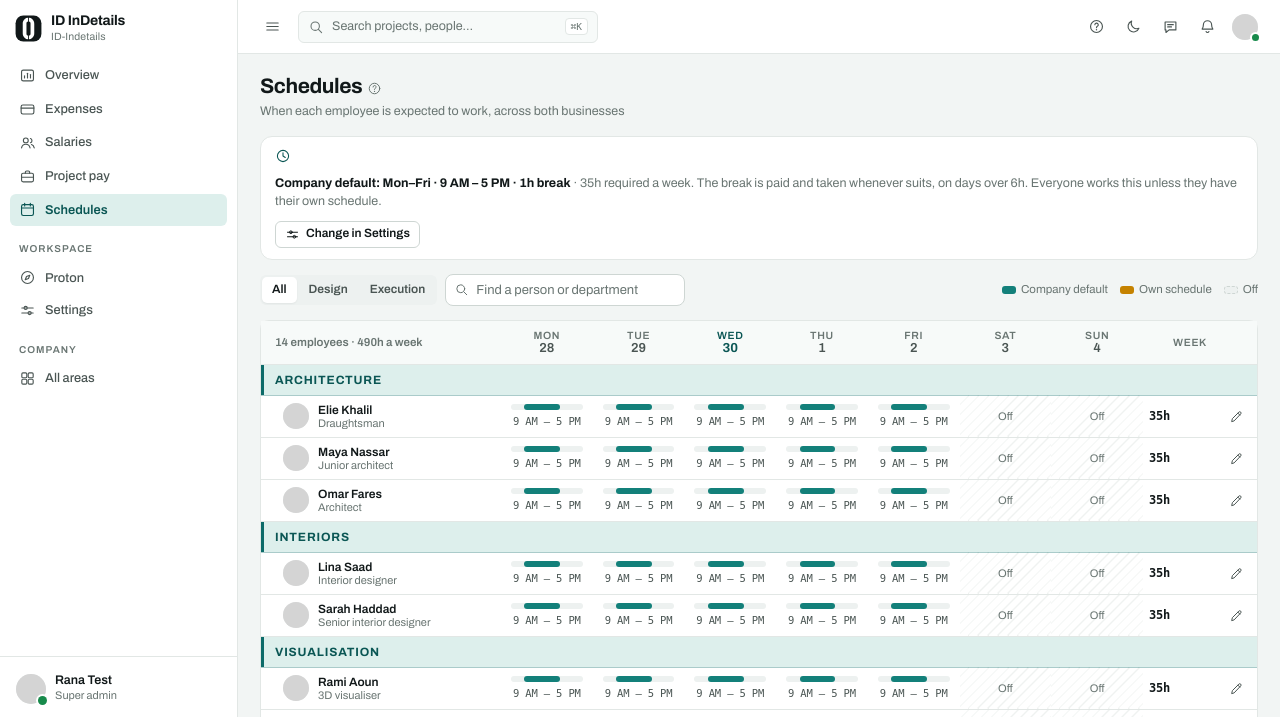
Test: Schedules › give someone their own week, from today
The image size is (1280, 717).
Click the button named "Edit Elie Khalil's schedule". click: (1236,416)
box: [1219, 403, 1254, 430]
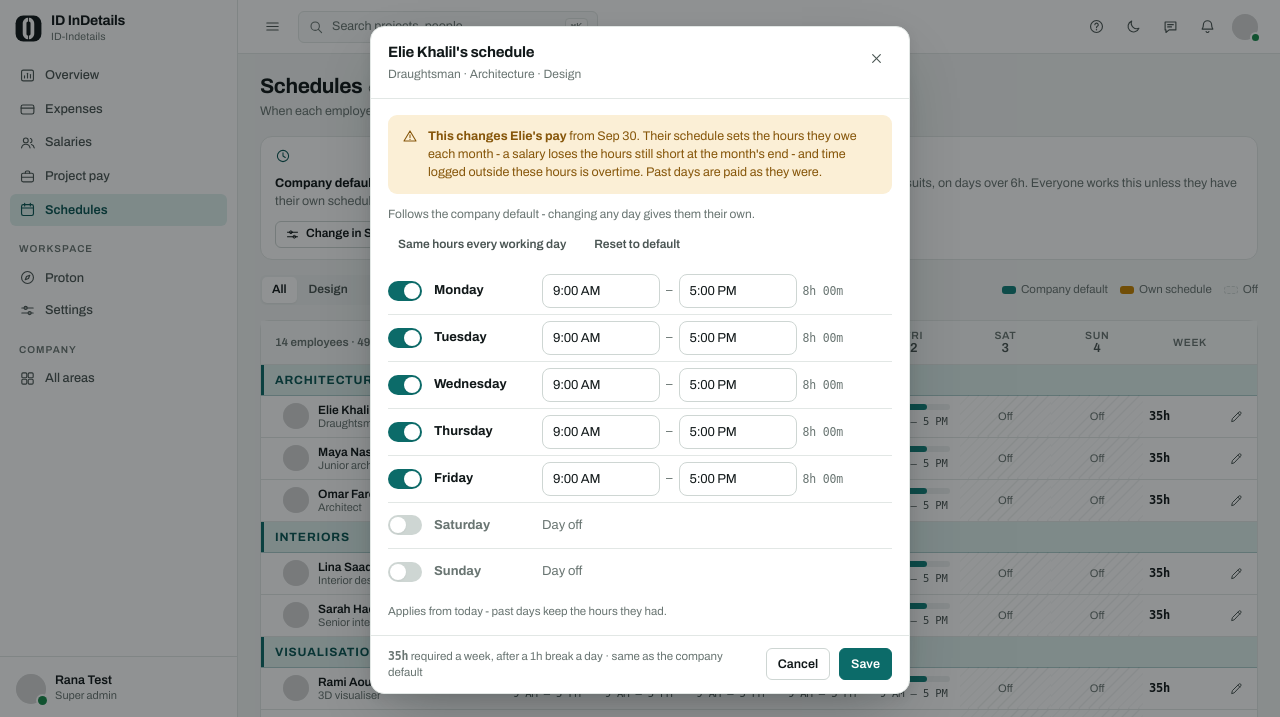
Now the text "same as the company default" is shown, box [388, 650, 723, 678]
Click the switch named "Works on Friday". click: (405,479)
box: [388, 469, 422, 489]
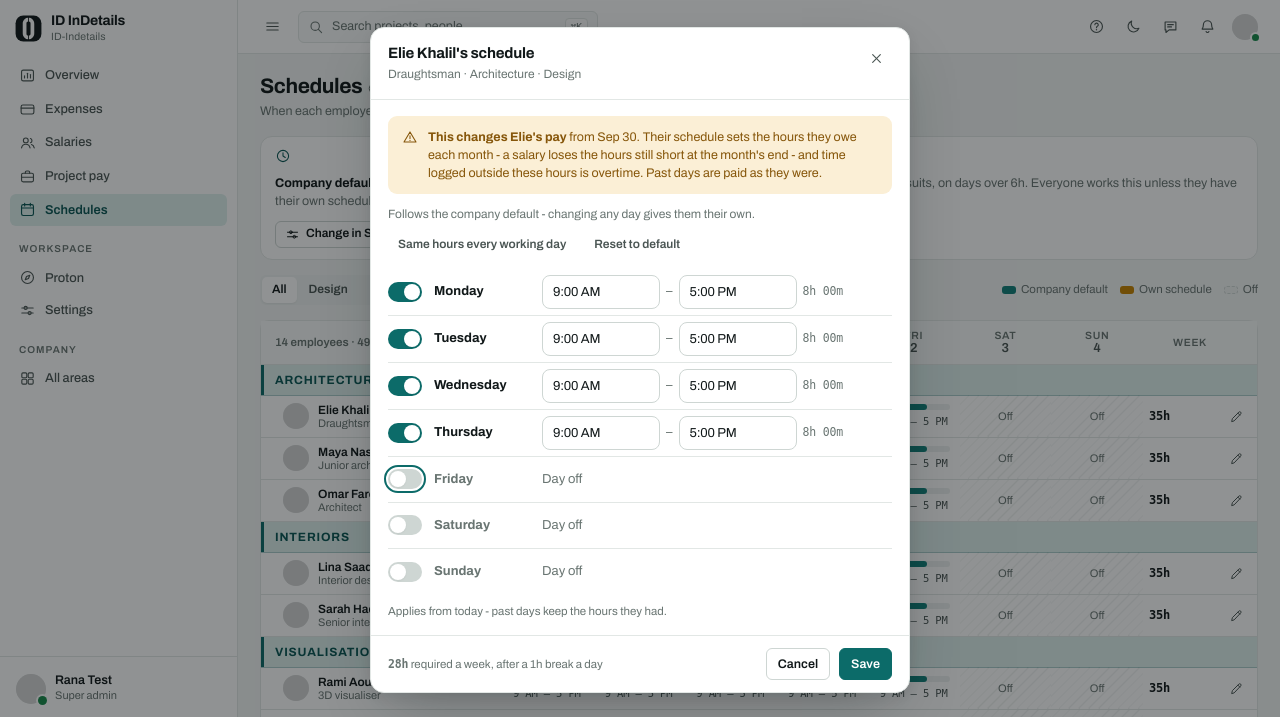
Now the text "Applies from today - past days keep the hours they had." is shown, box [388, 605, 667, 617]
Now the text "28h" is shown, box [388, 657, 408, 671]
Click the button "Save". click: (866,664)
box: [839, 648, 892, 680]
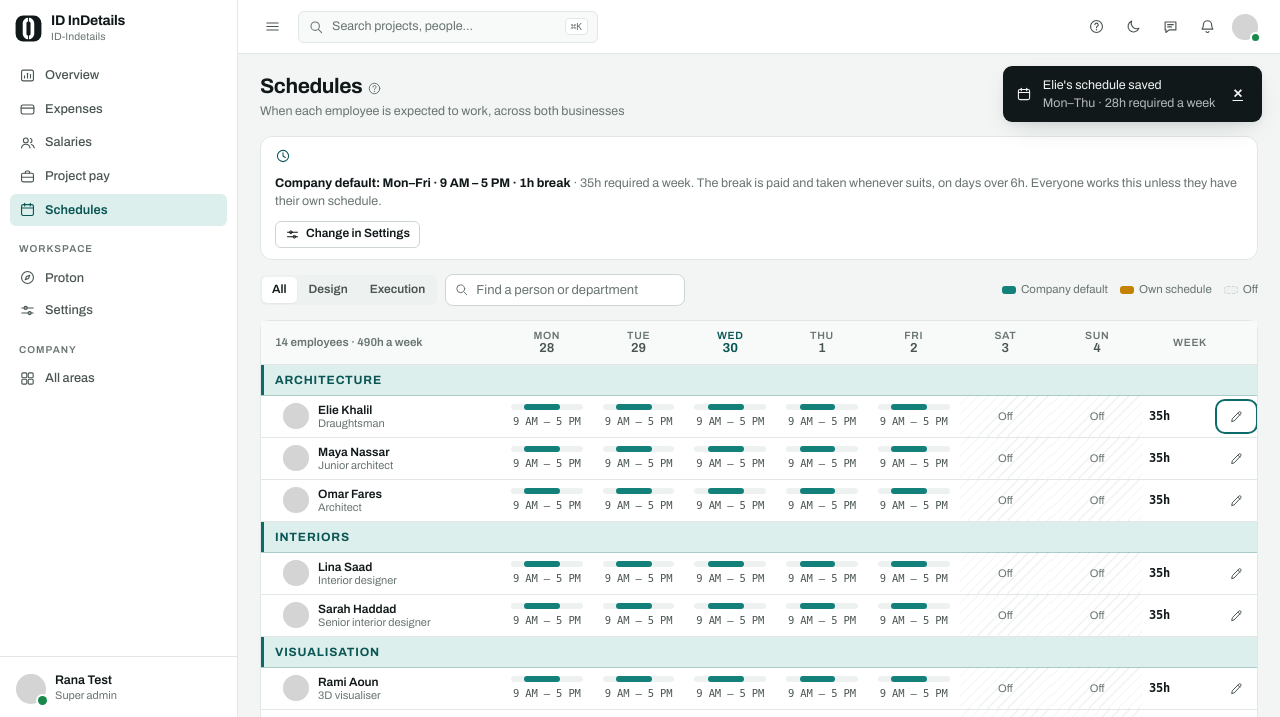
Now the text "Elie's schedule saved" is shown, box [1043, 78, 1162, 92]
